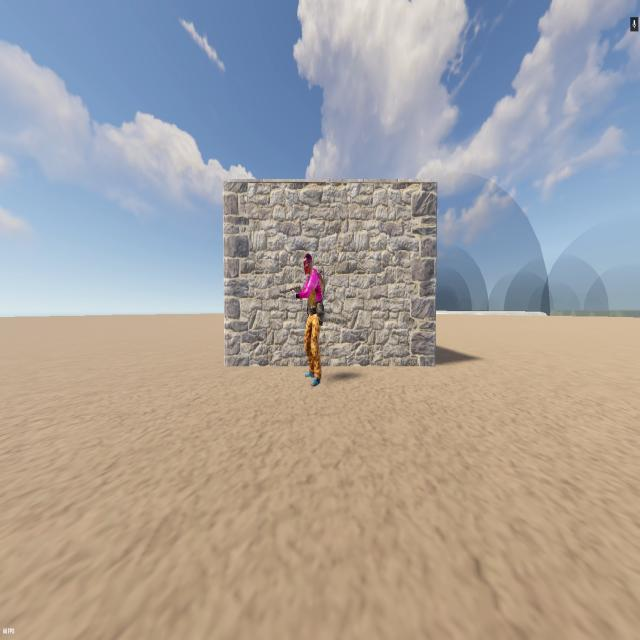Player: (298, 247, 326, 390)
